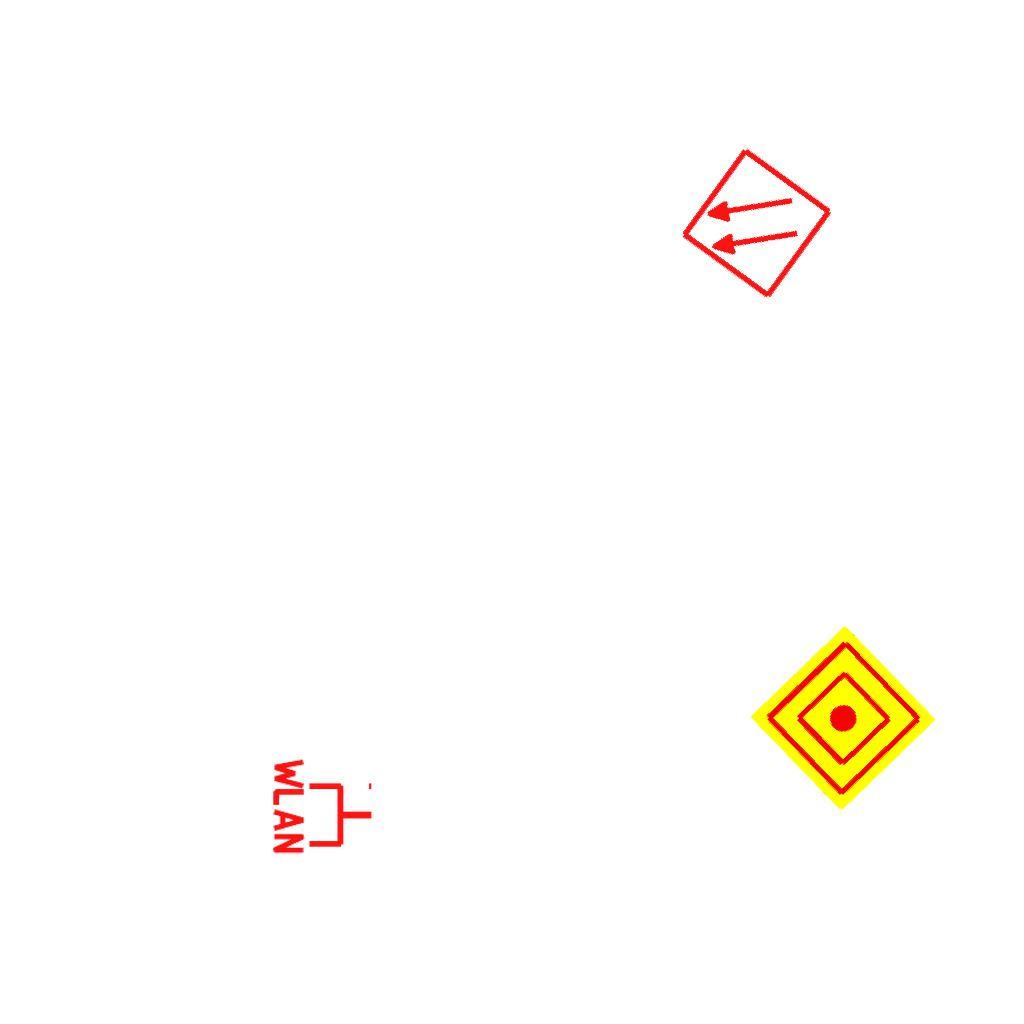NAM-Nichtautomatischer_Melder: (749, 624, 937, 812)
RMO_Rauchmelder_optischer: (677, 144, 836, 303)
WLAN: (271, 754, 376, 858)
